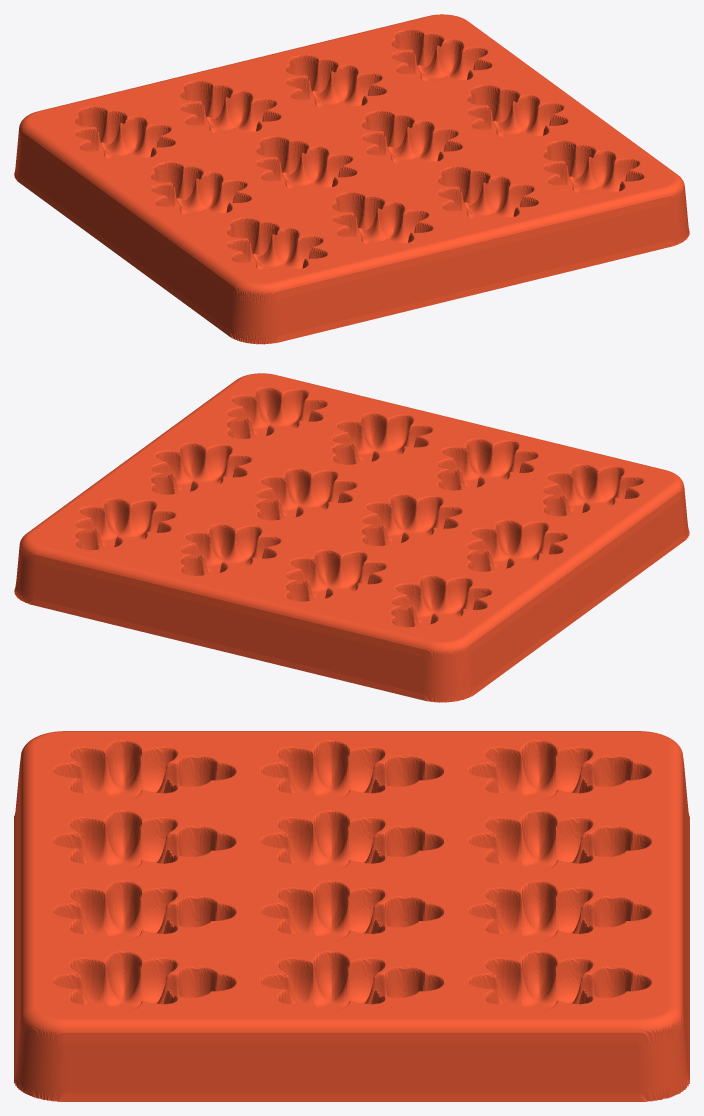
The model's file is mold.glb.
3 views of the same model, one above another, from view 1: azimuth 30°, elevation 25°; view 2: azimuth 150°, elevation 25°; view 3: azimuth 270°, elevation 25° (orthographic). The views are drawn at different scales.
Visible parts, largest first — view 1: geometry_0; view 2: geometry_0; view 3: geometry_0.
Part boxes in pixels (x1=…): geometry_0: x1=14, y1=14, x2=689, y2=344; geometry_0: x1=14, y1=373, x2=689, y2=702; geometry_0: x1=14, y1=731, x2=689, y2=1101.
Size of the model in its own units: 0.1267 by 0.0145 by 0.1192.
